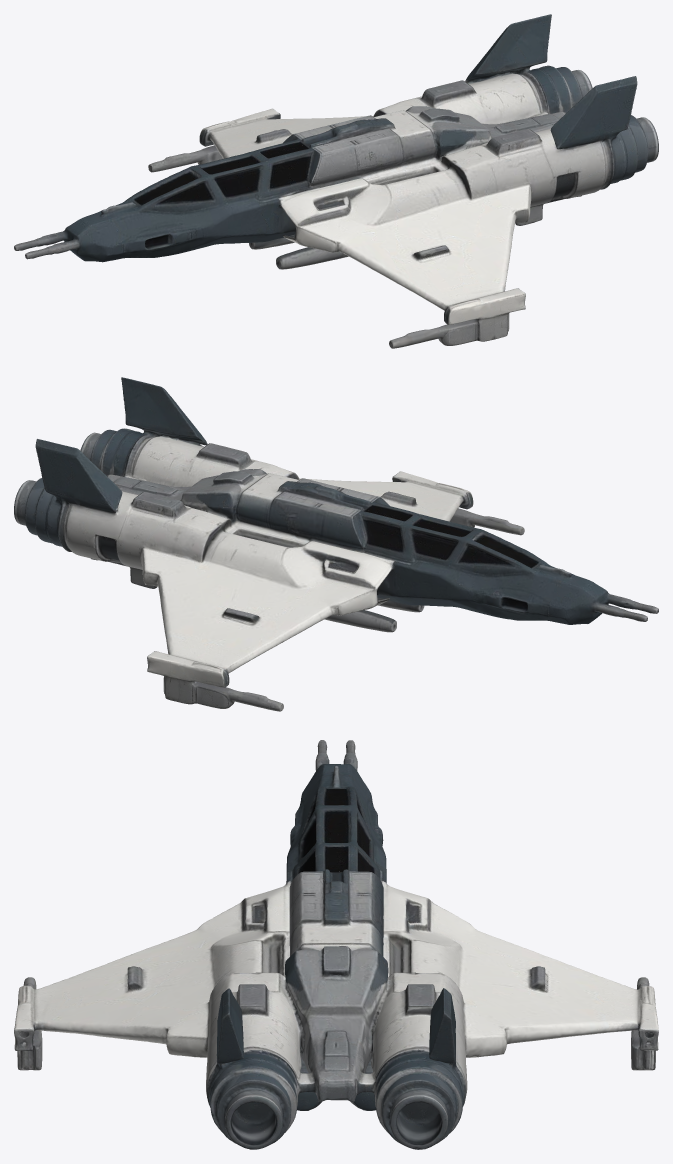
File: spaceship.glb
3 renders of one model, top to bottom at view 1: azimuth 30°, elevation 25°; view 2: azimuth 150°, elevation 25°; view 3: azimuth 270°, elevation 25°, orthographic. The views are drawn at different scales.
Bounding box in the file's own units: 1.9 × 0.4525 × 1.4.
Materials: 1 (1 with a texture image).
